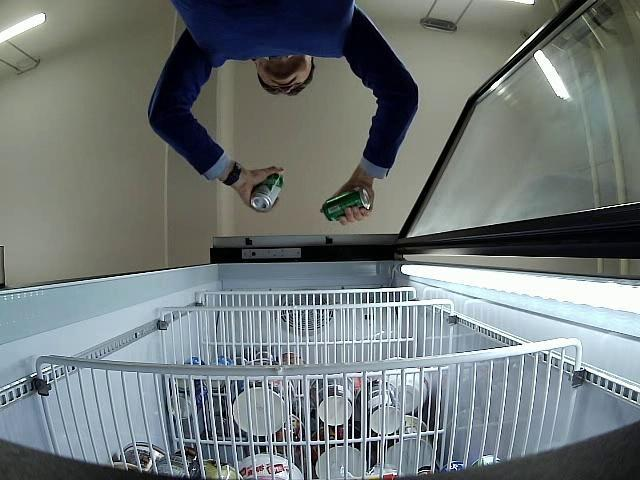12_chilsungCider: (323, 186, 371, 221), (249, 174, 284, 213)
